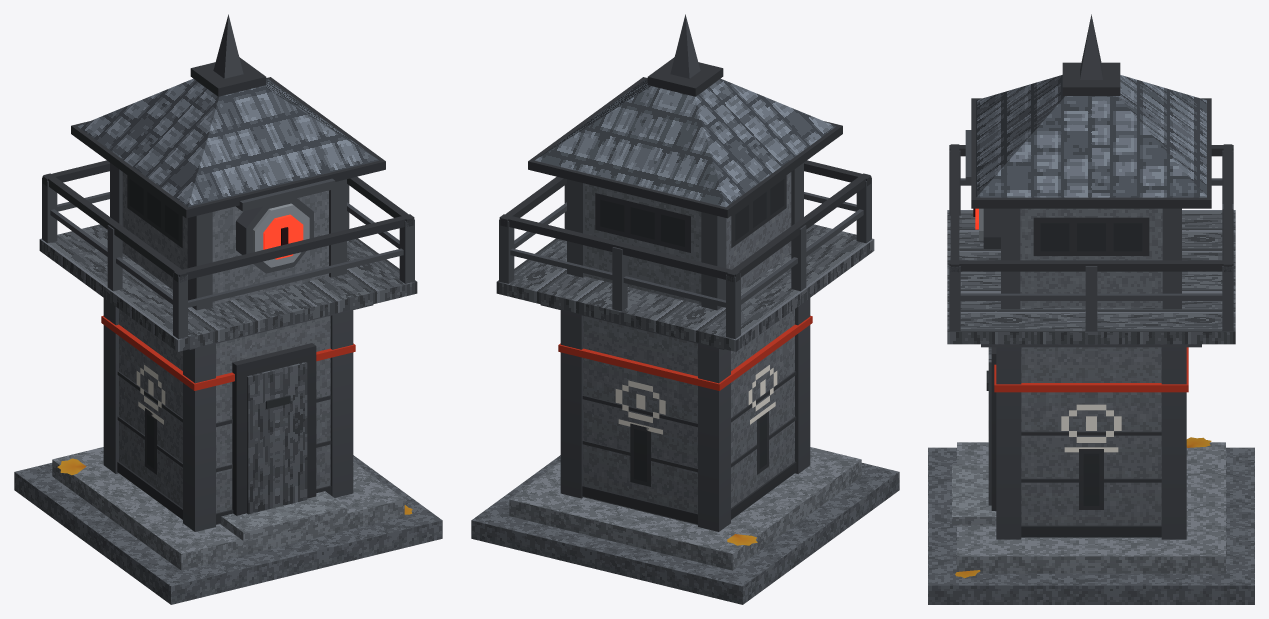
File: perfect_tower.glb
3 renders of one model, left to right at view 1: azimuth 30°, elevation 25°; view 2: azimuth 150°, elevation 25°; view 3: azimuth 270°, elevation 25°, orthographic. The views are drawn at different scales.
Visible parts, largest first — view 1: perfect_tower, glow_eye; view 2: perfect_tower; view 3: perfect_tower.
Boxes of the visible parts, left/top/right/bottom form: perfect_tower: left=14, top=14, right=442, bottom=604; glow_eye: left=263, top=214, right=303, bottom=259; perfect_tower: left=471, top=14, right=899, bottom=604; perfect_tower: left=928, top=14, right=1254, bottom=604.
Size of the model in its own units: 3.4 by 5.99 by 3.4.
14 materials, 5 textured.
